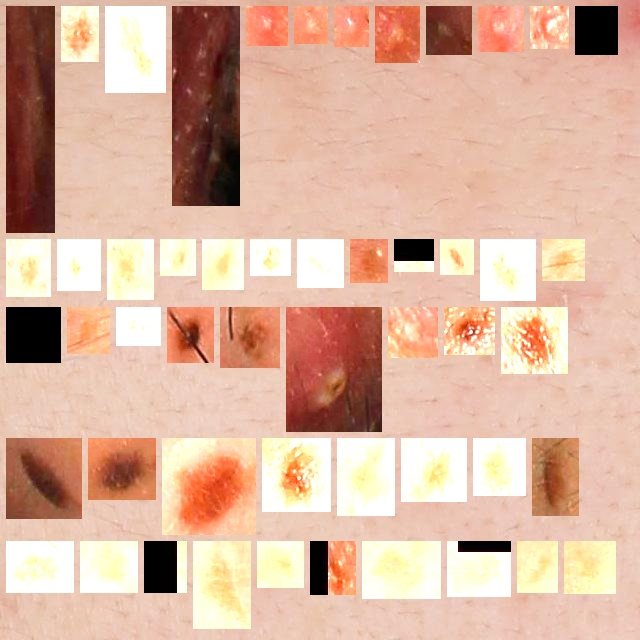hypertrophic_scar: (180, 14, 232, 198), (14, 14, 47, 225)
melasma: (113, 14, 158, 85), (201, 549, 243, 621), (370, 549, 433, 591), (345, 446, 387, 508), (409, 446, 459, 494), (455, 549, 503, 589), (14, 549, 66, 585), (488, 247, 528, 293), (14, 315, 53, 355), (481, 446, 518, 488), (88, 549, 130, 585), (115, 247, 146, 292), (572, 549, 608, 586), (14, 247, 43, 289), (305, 247, 336, 280), (65, 247, 93, 283), (152, 549, 179, 585), (265, 549, 296, 580), (210, 247, 236, 282), (525, 549, 550, 585), (75, 315, 102, 346), (550, 247, 577, 273), (124, 315, 153, 338), (358, 247, 380, 275), (258, 247, 283, 268), (168, 247, 188, 268), (402, 247, 426, 264), (448, 247, 466, 267)
nevus: (170, 446, 248, 527), (14, 446, 74, 511), (270, 446, 323, 504), (509, 315, 560, 366), (96, 446, 148, 492), (228, 315, 272, 360), (540, 446, 571, 508), (175, 315, 206, 355), (318, 549, 348, 587), (452, 315, 487, 347), (69, 14, 91, 54)
pustule: (294, 315, 374, 424), (396, 315, 430, 350), (383, 14, 412, 55), (434, 14, 464, 47), (486, 14, 516, 44), (254, 14, 280, 38), (538, 14, 561, 41), (342, 14, 361, 39), (302, 14, 320, 36)
